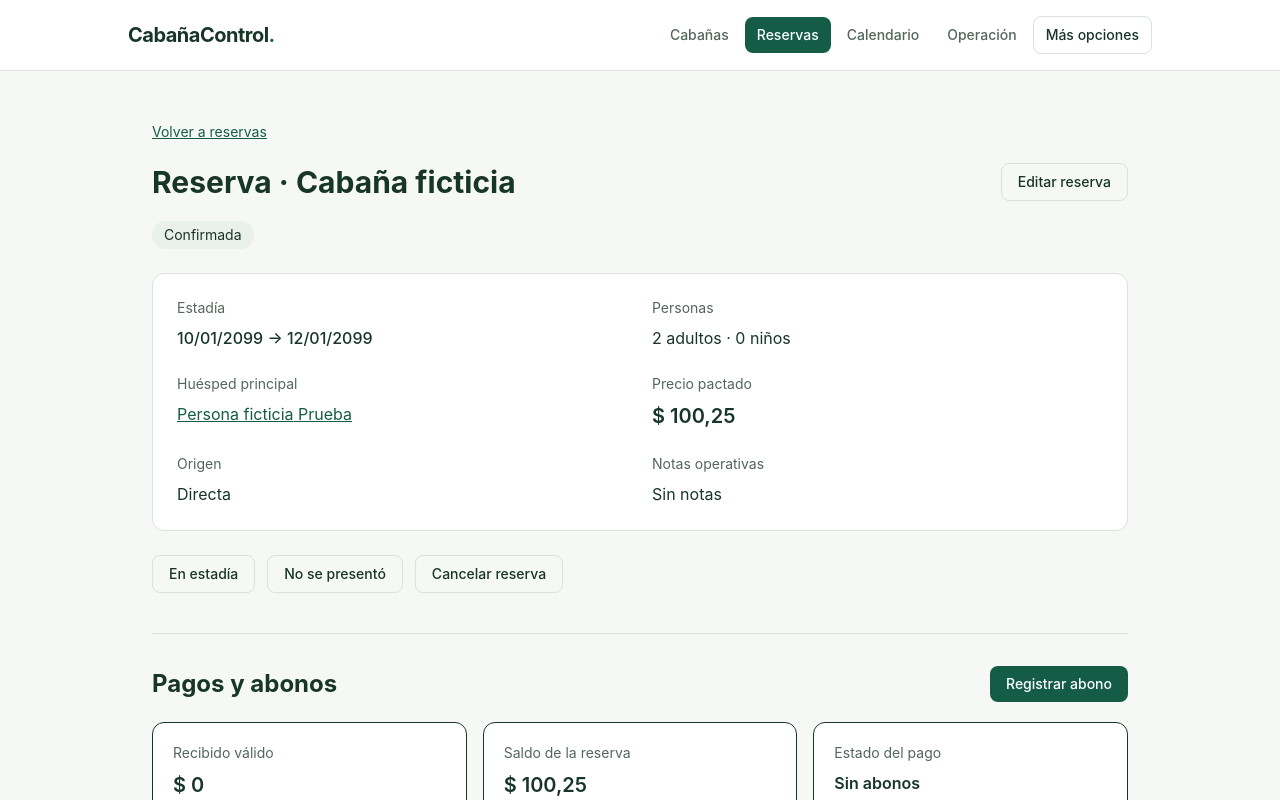
Pagos de reserva › registra texto decimal y reutiliza solicitud en un reintento
Step 1. Click the button "Registrar abono" → (1059, 684), box 990,666 -> 1128,702
(page scrolled)
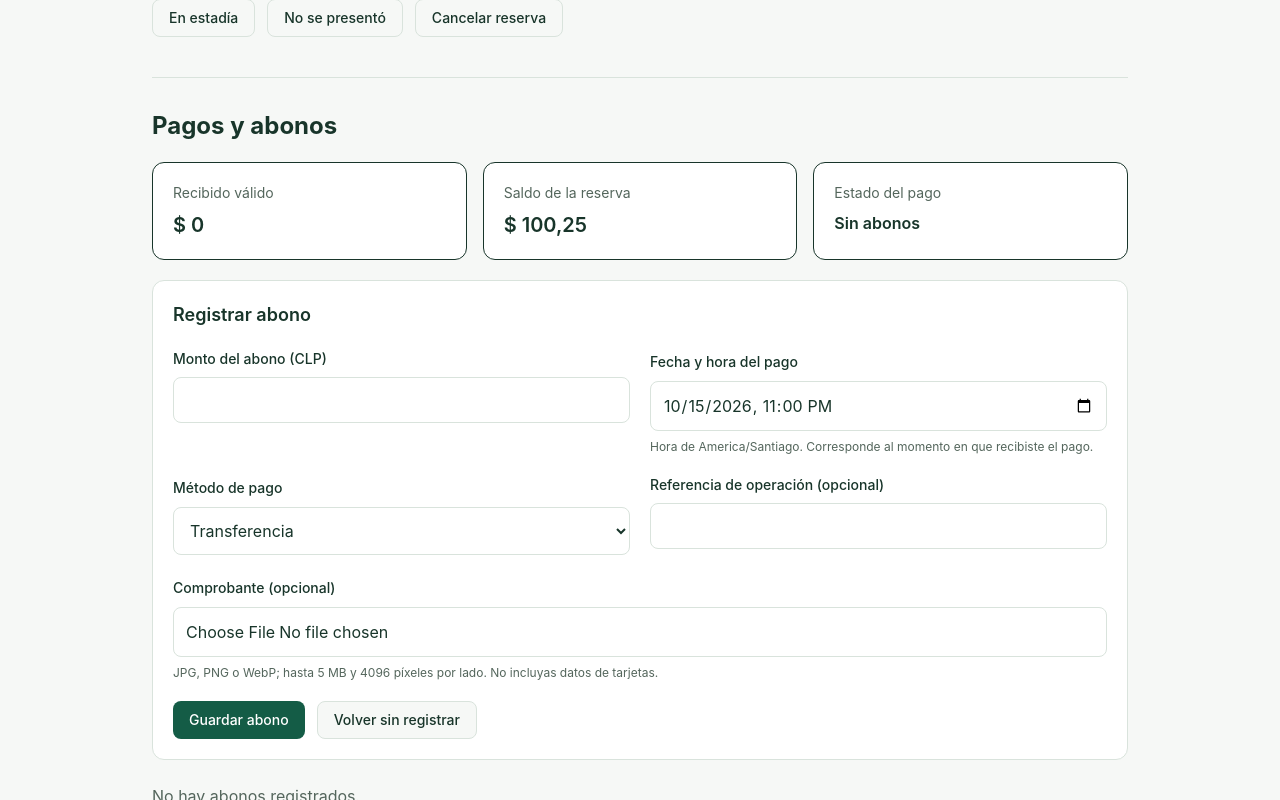
Step 2. Type "60,10" into the field labelled "Monto del abono (CLP)" → (402, 400), box 173,377 -> 630,423
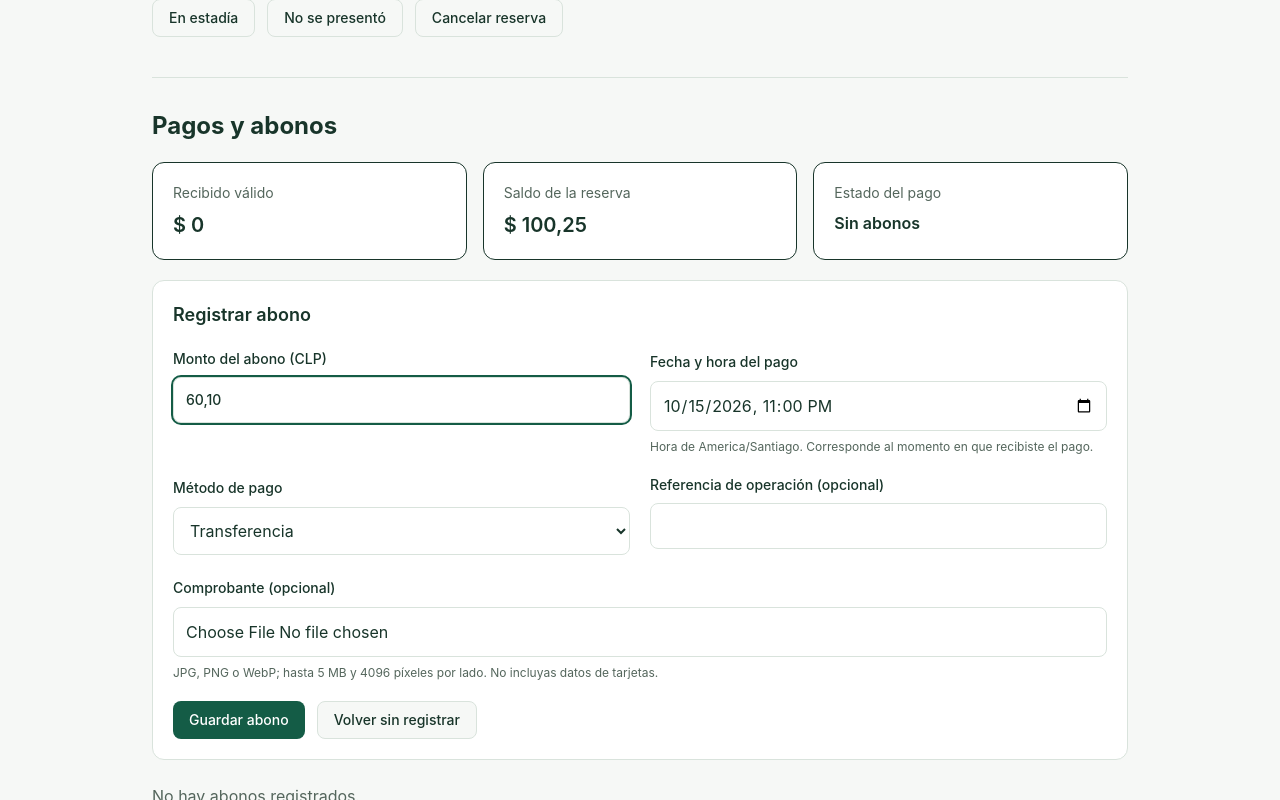
Step 3. Click the button "Guardar abono" → (239, 720), box 173,701 -> 305,739
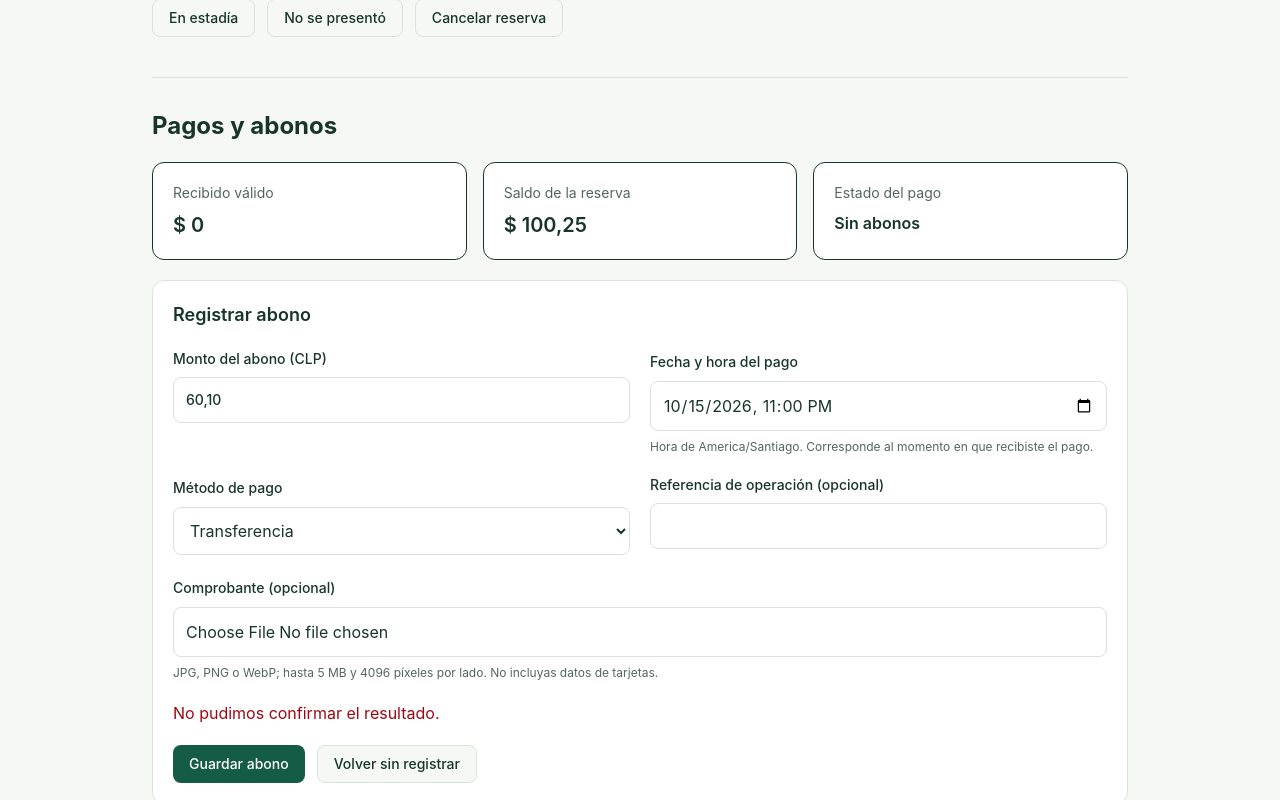
Result: the message shows "confirmar el resultado" at 173,703 -> 440,723
Step 4. Click the button "Guardar abono" → (239, 764), box 173,745 -> 305,783
(page scrolled)
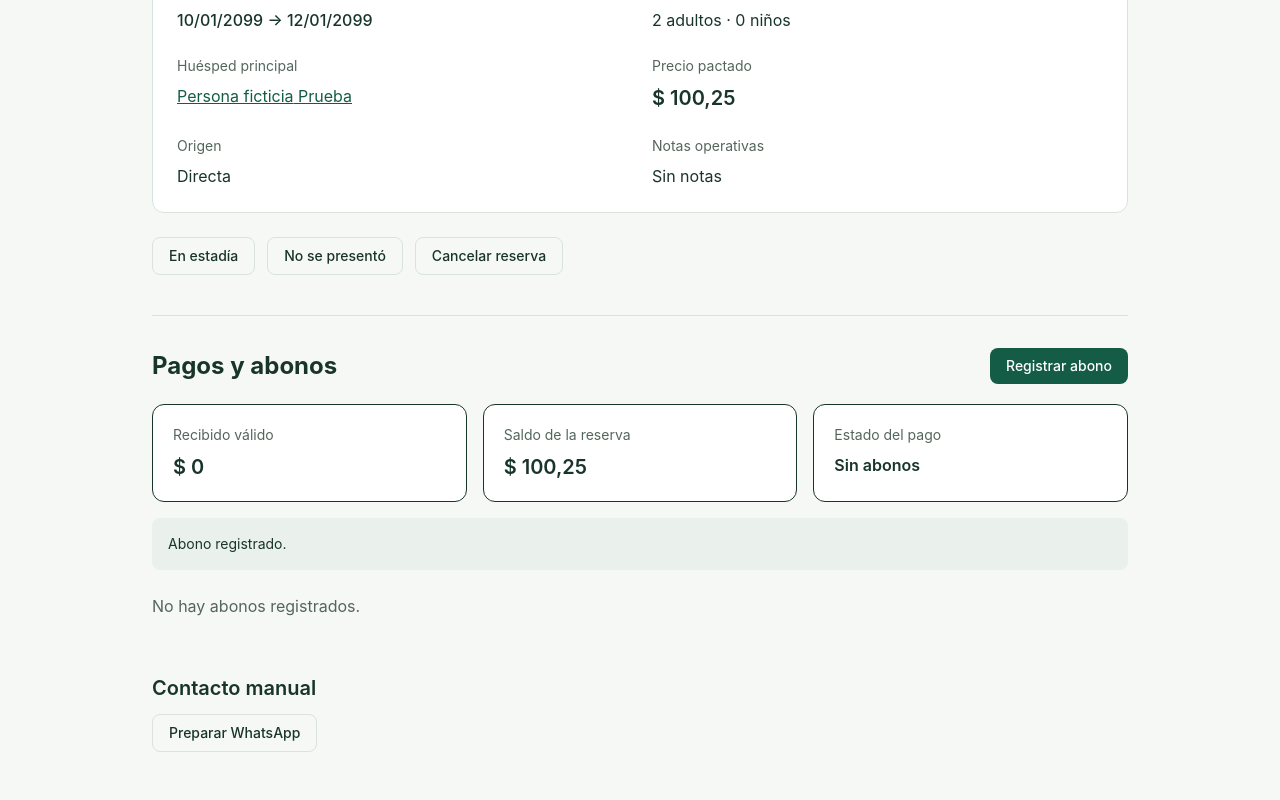
Result: the text "Abono registrado." is shown at 152,518 -> 1128,570
